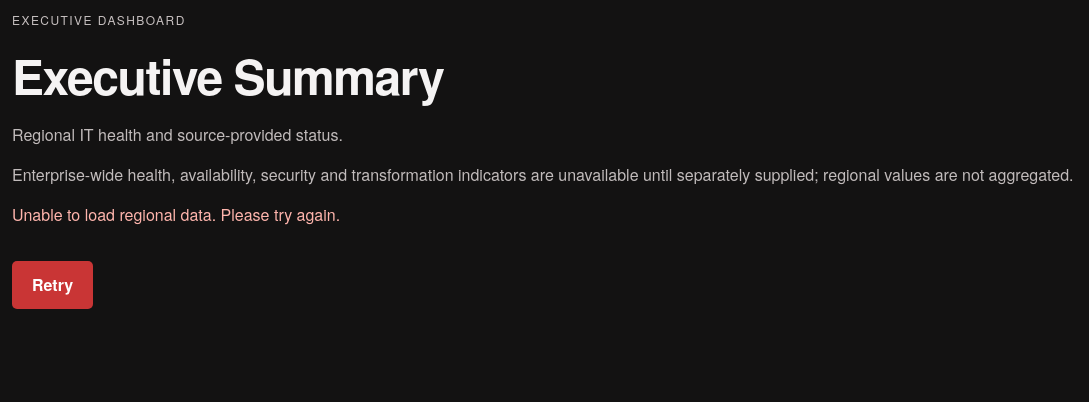
Test: Regional dashboard › reports request failures and retries both endpoints
This screenshot has width=1089, height=402.
Expected: the message shows "Unable to load", [12,203,340,226]
Click the button "Retry": (53, 285) [12,261,93,309]
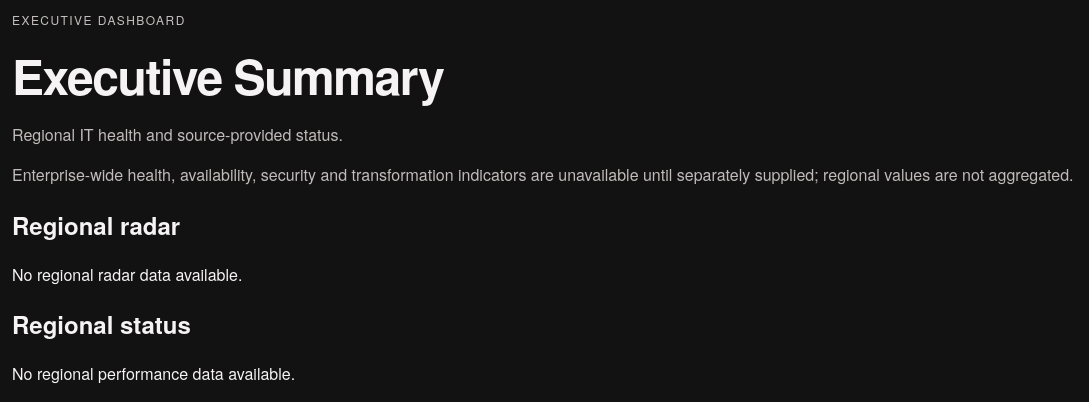
Expected: the text "No regional performance data available." is shown, [12,362,295,385]
